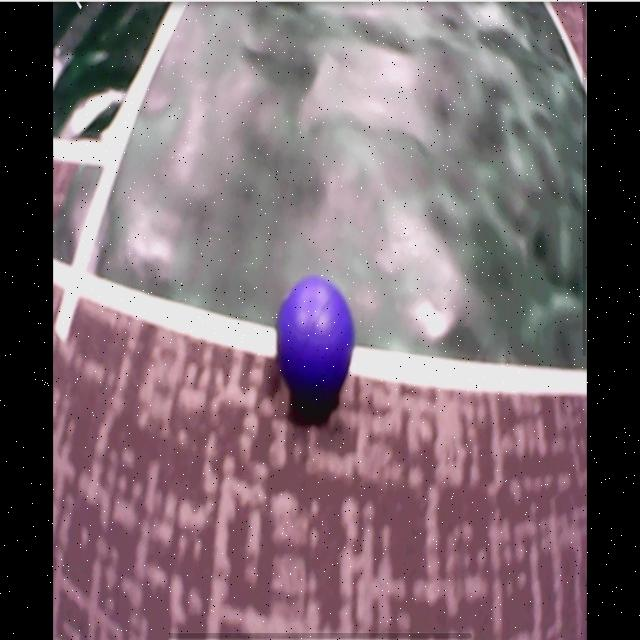ball: (277, 279, 355, 392)
